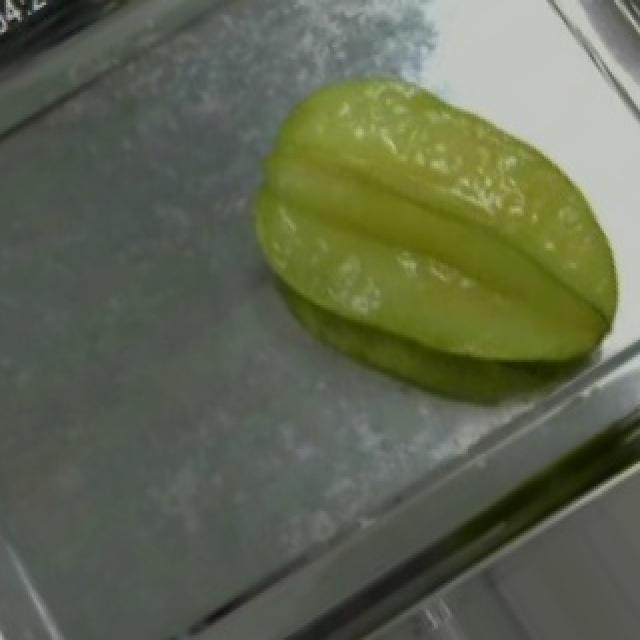fruit: (204, 37, 636, 437)
